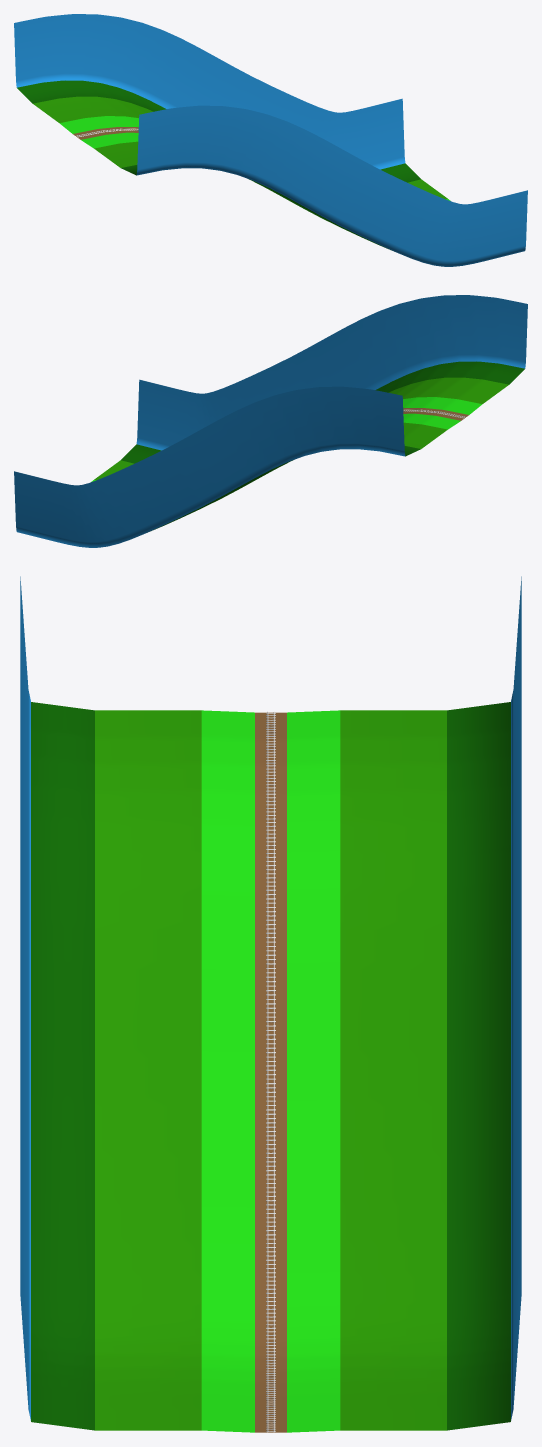
File: Bajada-2.fbx
The picture shows the model from 3 angles, top to bottom: view 1: azimuth 30°, elevation 25°; view 2: azimuth 150°, elevation 25°; view 3: azimuth 270°, elevation 25°; orthographic projection. The views are drawn at different scales.
Parts seen in each view (by area): view 1: Bajada-2; view 2: Bajada-2; view 3: Bajada-2.
Boxes of the visible parts, bbox=[...] form: Bajada-2: bbox=[14, 14, 527, 266]; Bajada-2: bbox=[14, 295, 527, 547]; Bajada-2: bbox=[20, 576, 521, 1432].
Size of the model in its own units: 17919 by 10515 by 10000.
